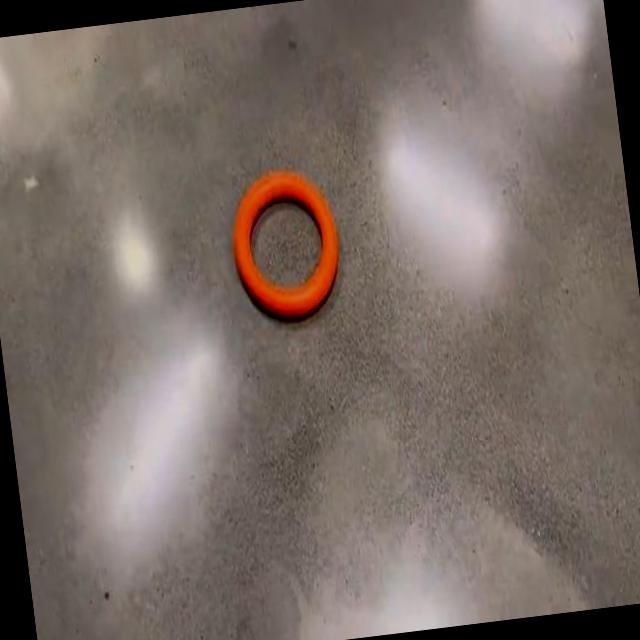note: (233, 170, 337, 315)
